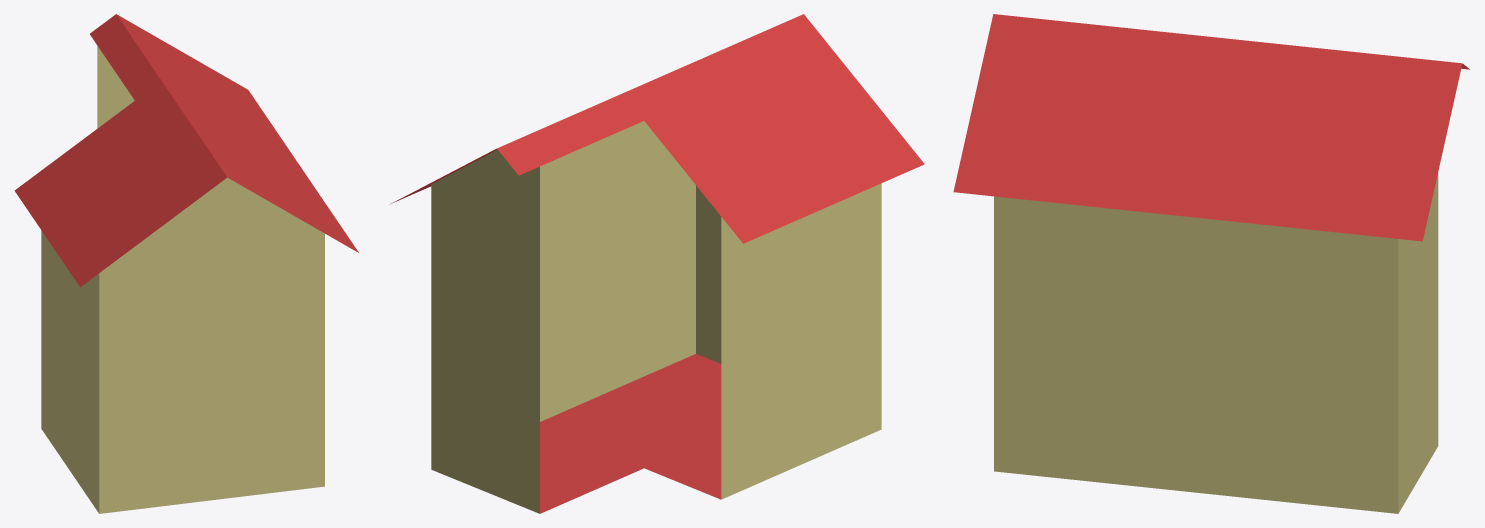
3 views of the same model, side by side, from view 1: azimuth 30°, elevation 25°; view 2: azimuth 150°, elevation 25°; view 3: azimuth 270°, elevation 25° (orthographic). The views are drawn at different scales.
Bounding box in the file's own units: 6.82 × 7.74 × 6.61.
